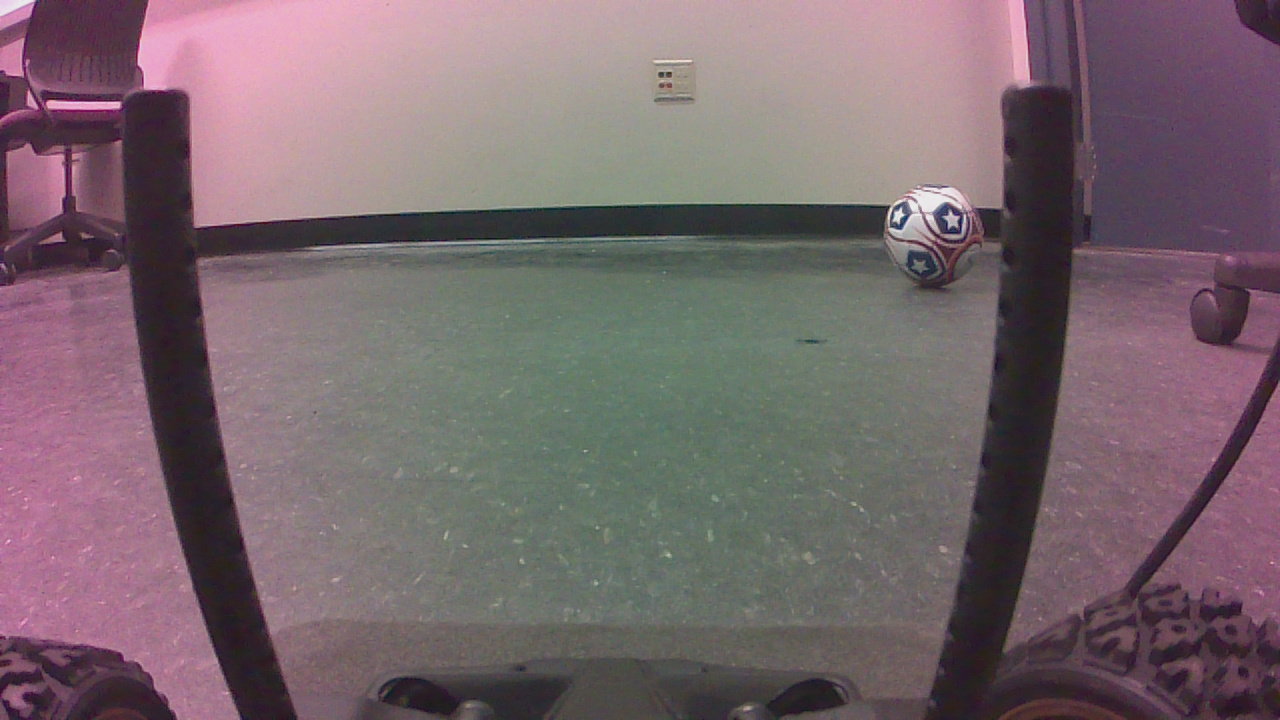ball: (888, 188, 992, 294)
